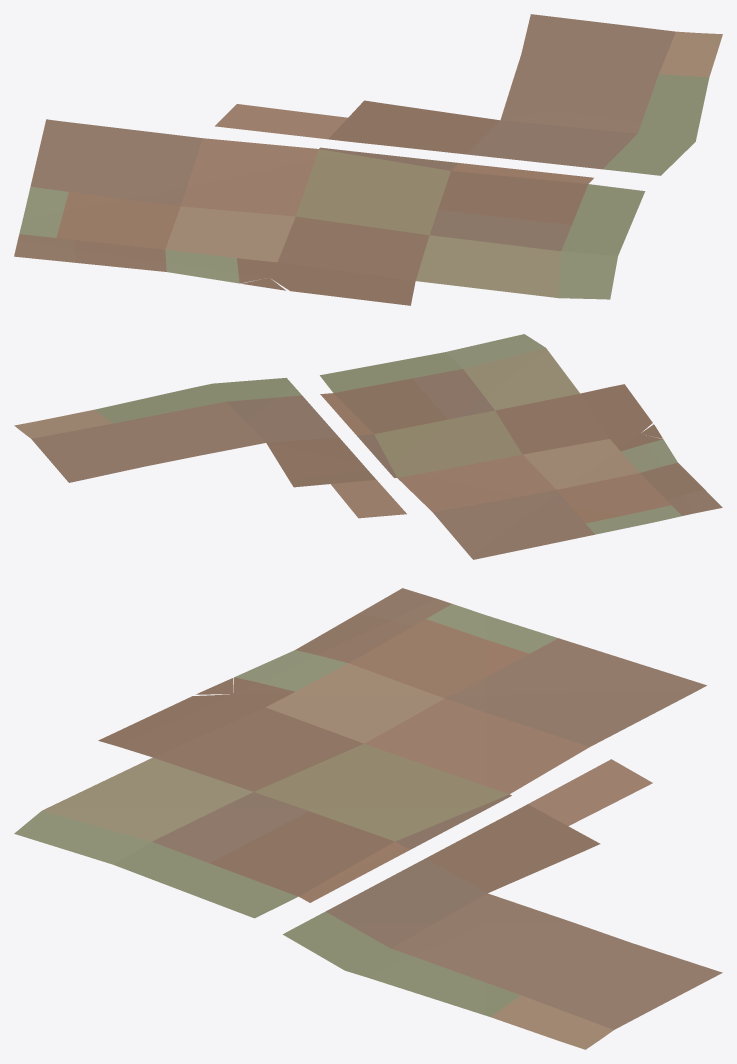
Rendered from farm_8_6_soil.glb.
3 views of the same model, one above another, from view 1: azimuth 30°, elevation 25°; view 2: azimuth 150°, elevation 25°; view 3: azimuth 270°, elevation 25° (orthographic). The views are drawn at different scales.
Parts seen in each view (by area): view 1: geometry_0; view 2: geometry_0; view 3: geometry_0.
Boxes of the visible parts, x1,y1,x2,y2 form: geometry_0: (14,14,722,305); geometry_0: (14,334,722,559); geometry_0: (14,588,722,1049).
Bounding box in the file's own units: 319 × 12.05 × 224.
